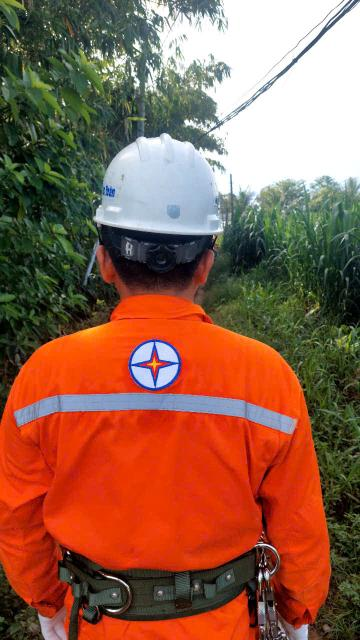gloves: (97, 537, 246, 604)
helmet: (68, 97, 228, 256)
